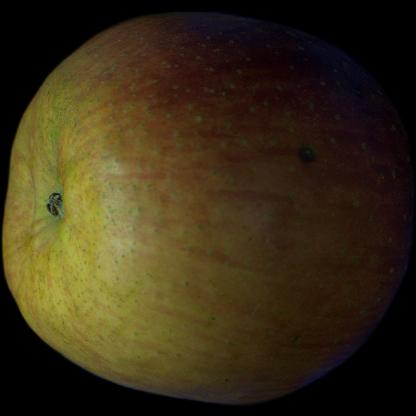defect: (250, 100, 344, 210)
